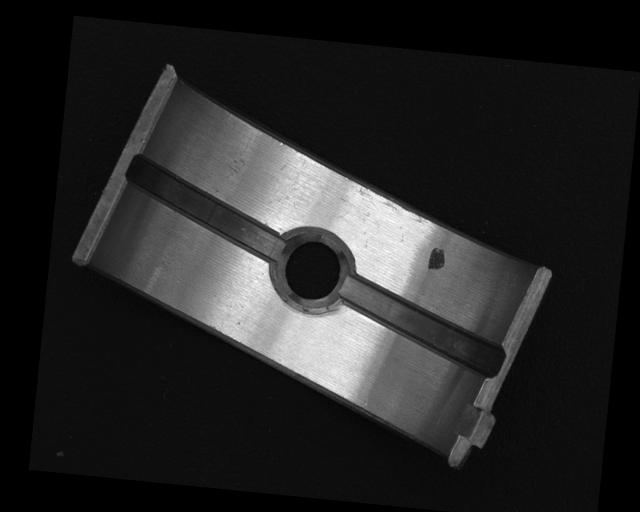blot: (427, 246, 447, 274)
gap: (117, 154, 293, 264), (335, 271, 508, 378)
hole: (274, 231, 349, 316)
